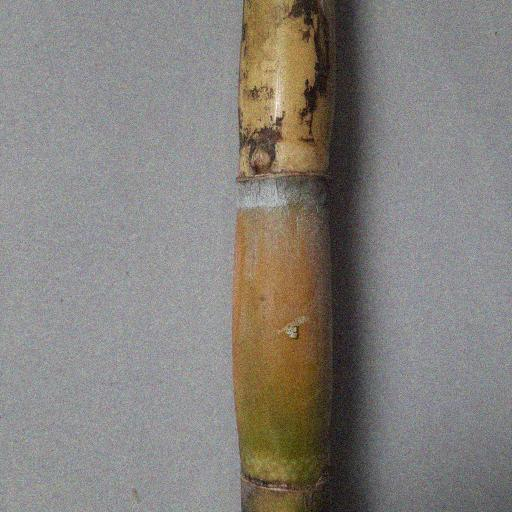Bud: (249, 142, 273, 176)
